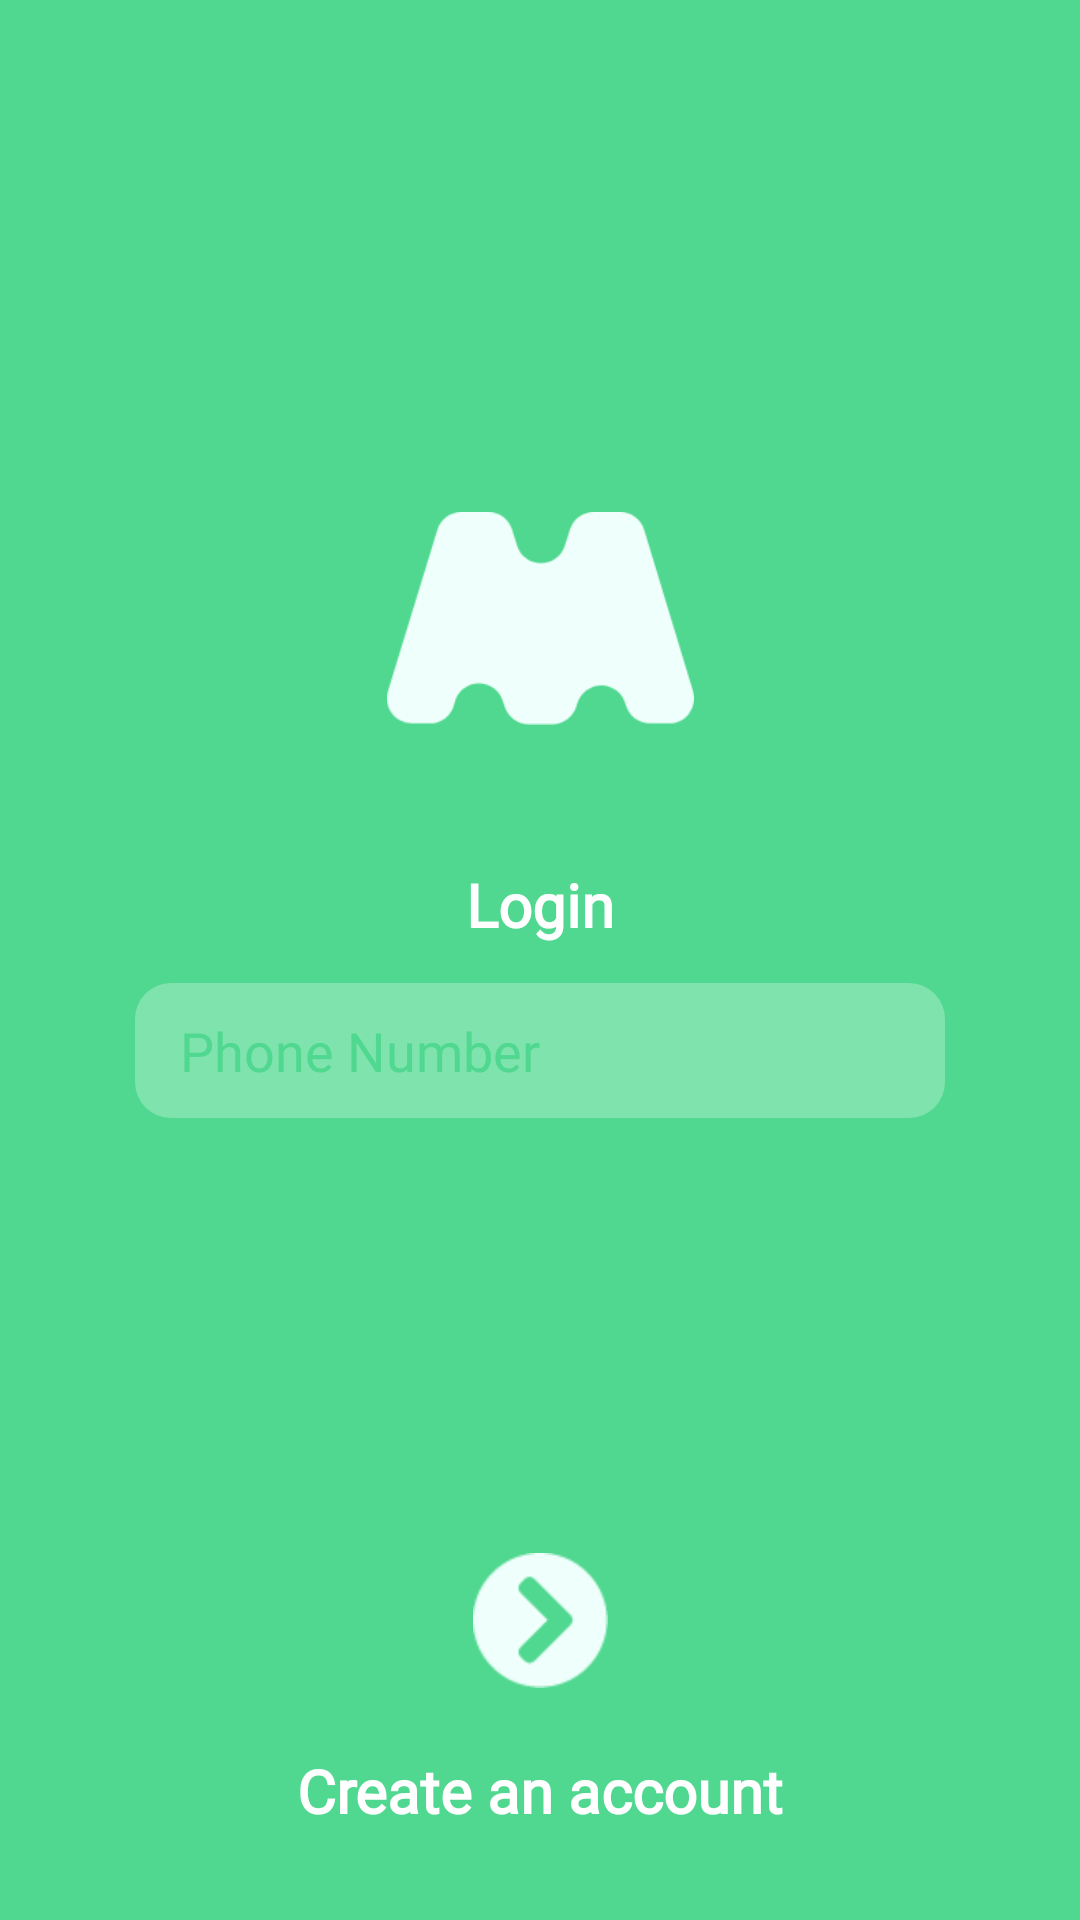

Screen size 1080px×1920px. Icon name, then its center in pixels as (x,y):
next: (540,1620)
